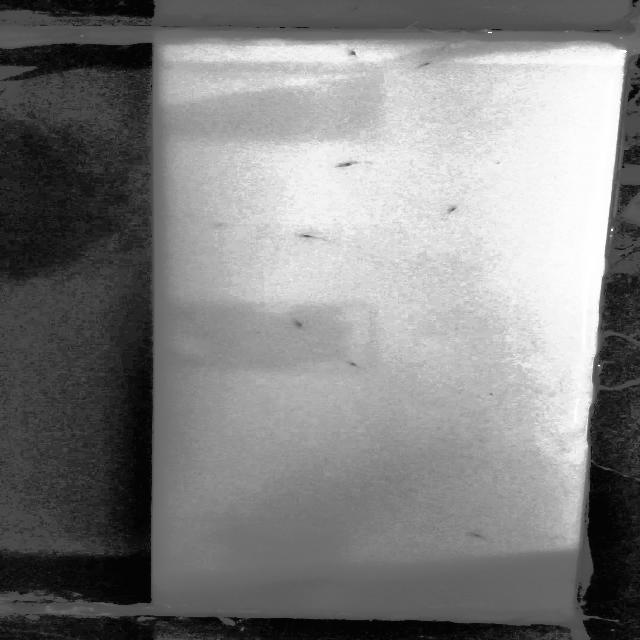shrimp: (331, 158, 358, 170), (415, 60, 443, 70), (442, 202, 461, 216), (294, 231, 320, 240), (470, 530, 486, 542), (340, 47, 357, 57), (289, 318, 304, 327), (347, 357, 357, 368)
